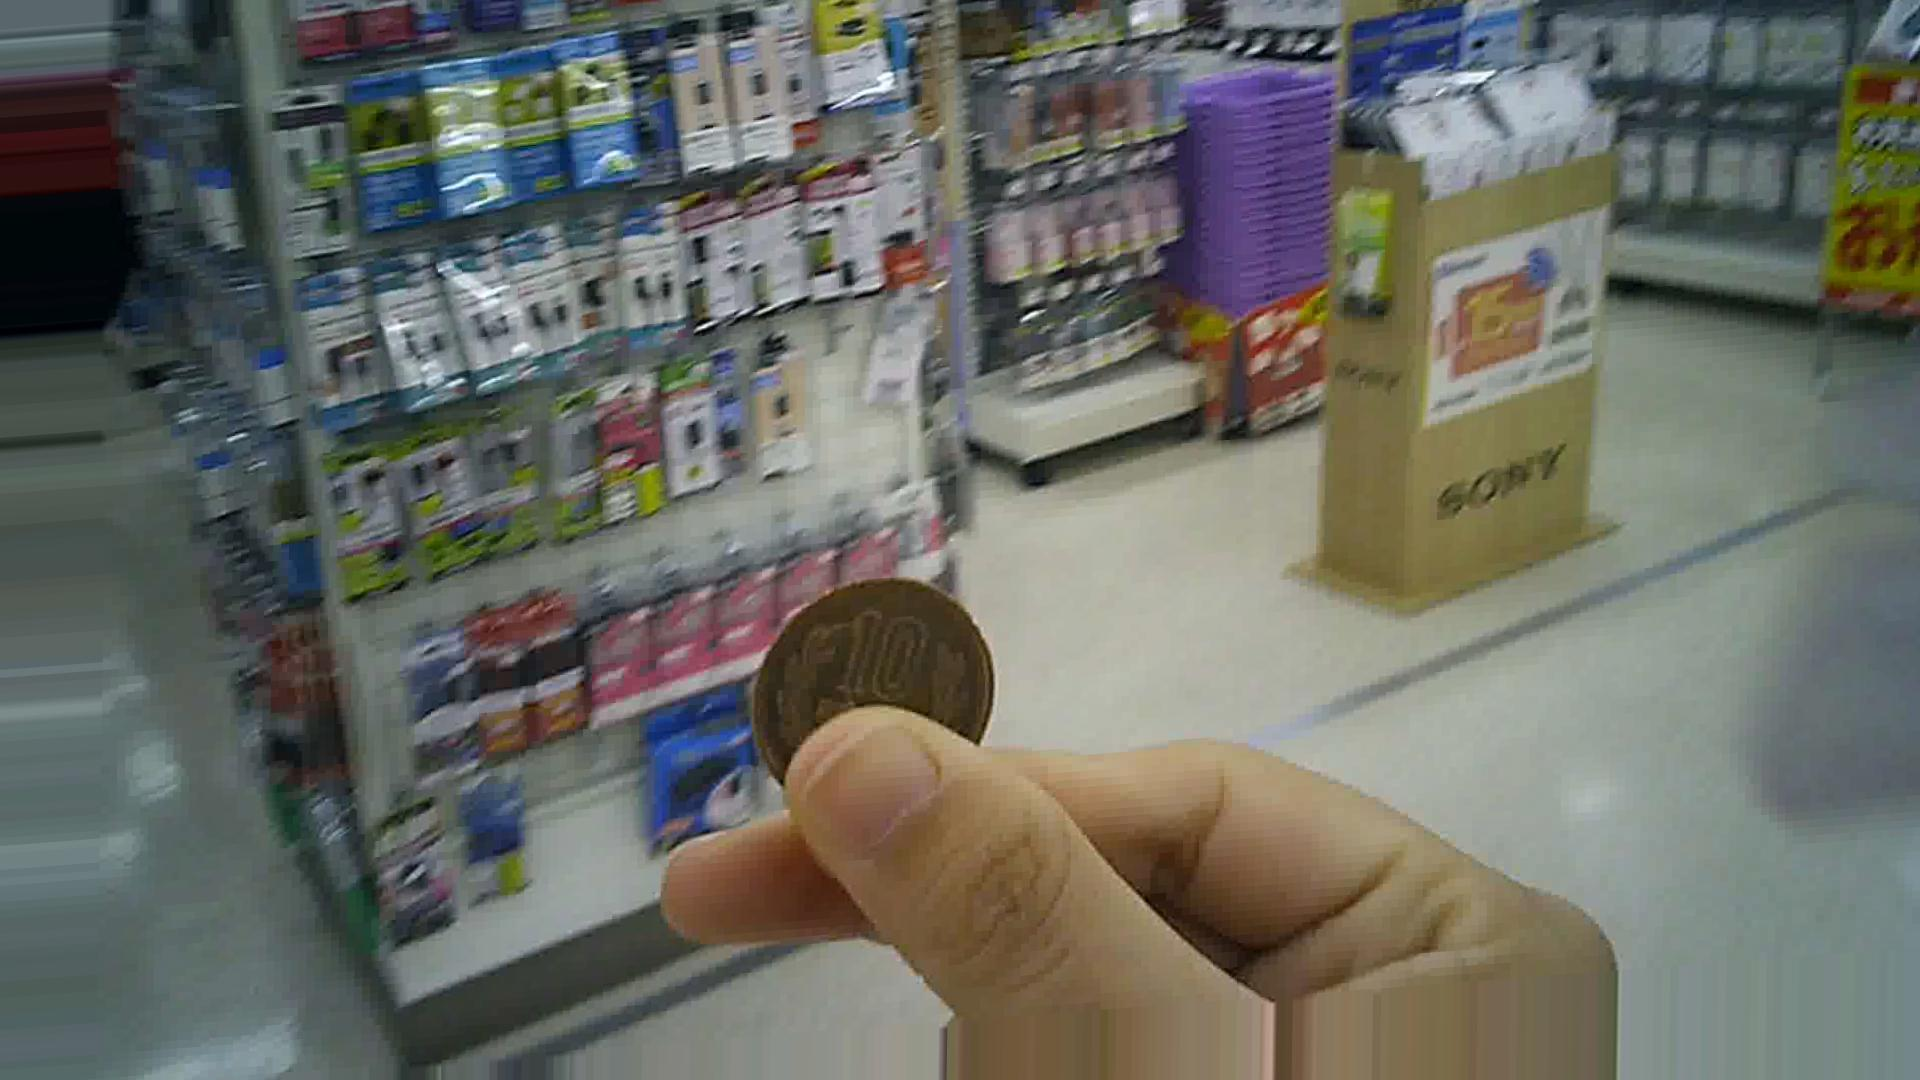10 Yen: (742, 570, 1006, 800)
